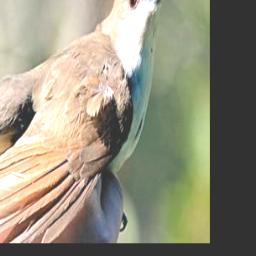Cuckoo: (0, 0, 175, 243)
